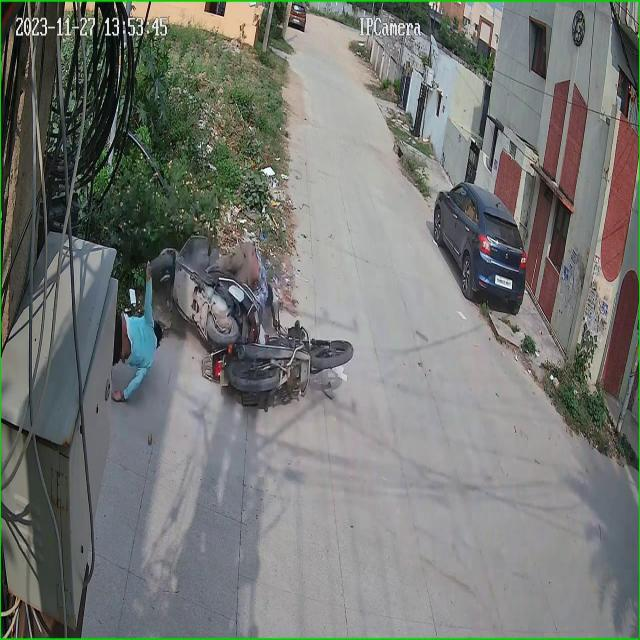accident: (114, 198, 362, 442)
